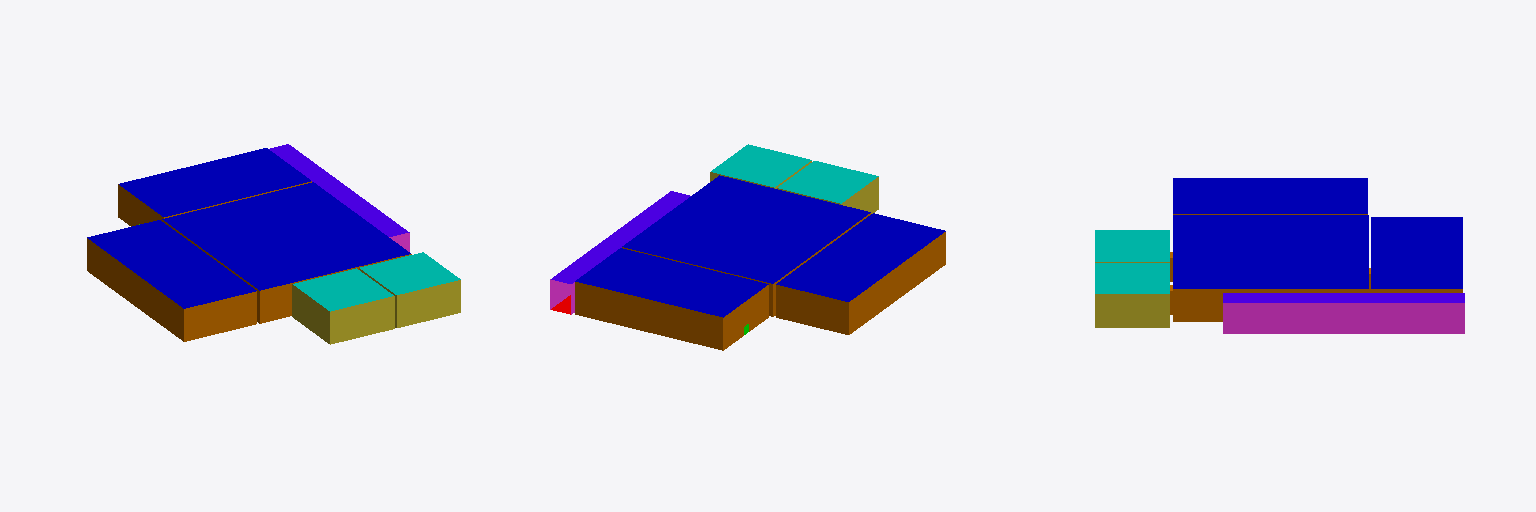
File: Casino.obj
3 renders of one model, left to right at view 1: azimuth 30°, elevation 25°; view 2: azimuth 150°, elevation 25°; view 3: azimuth 270°, elevation 25°, orthographic.
Parts seen in each view (by area): view 1: Plane.002; view 2: Plane.002; view 3: Plane.002.
Part boxes in pixels (left/top/right/bottom): Plane.002: left=87, top=144, right=460, bottom=344; Plane.002: left=550, top=144, right=945, bottom=350; Plane.002: left=1095, top=178, right=1464, bottom=333.
Size of the model in its own units: 23.73 by 3 by 30.37.